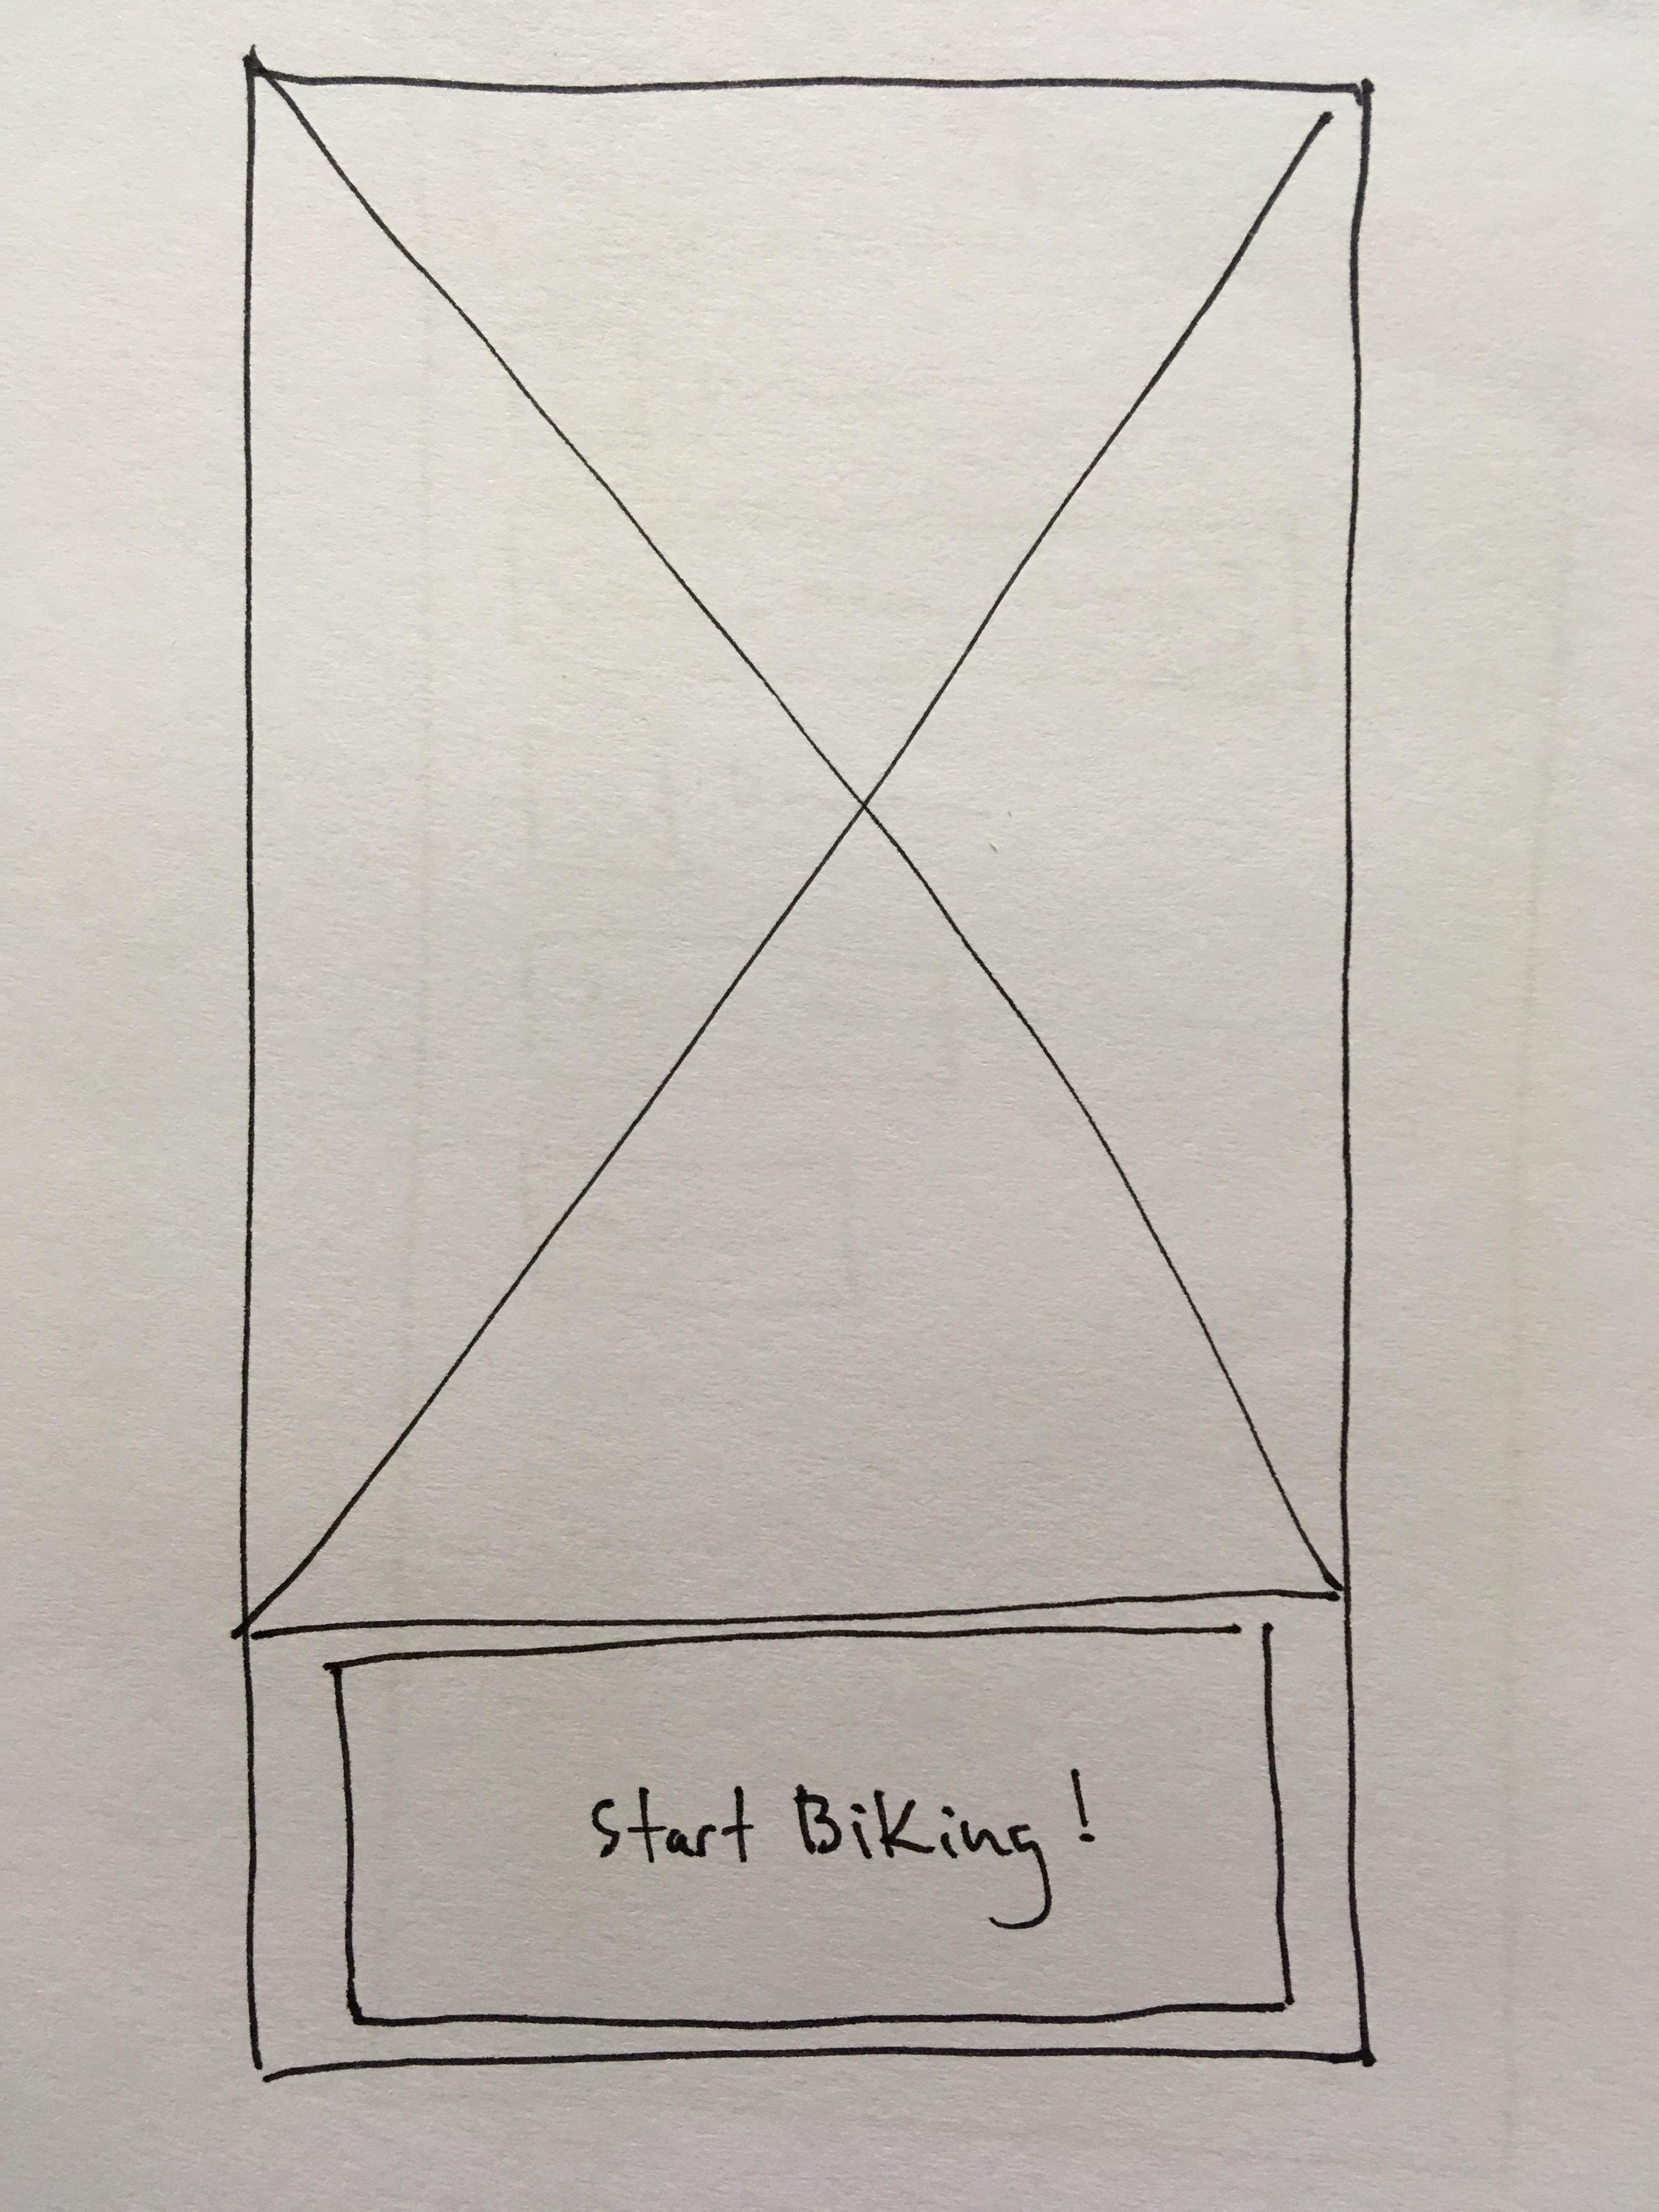Button: (328, 1625, 1295, 2027)
Image: (253, 71, 1351, 1634)
Screen: (244, 75, 1375, 2066)
